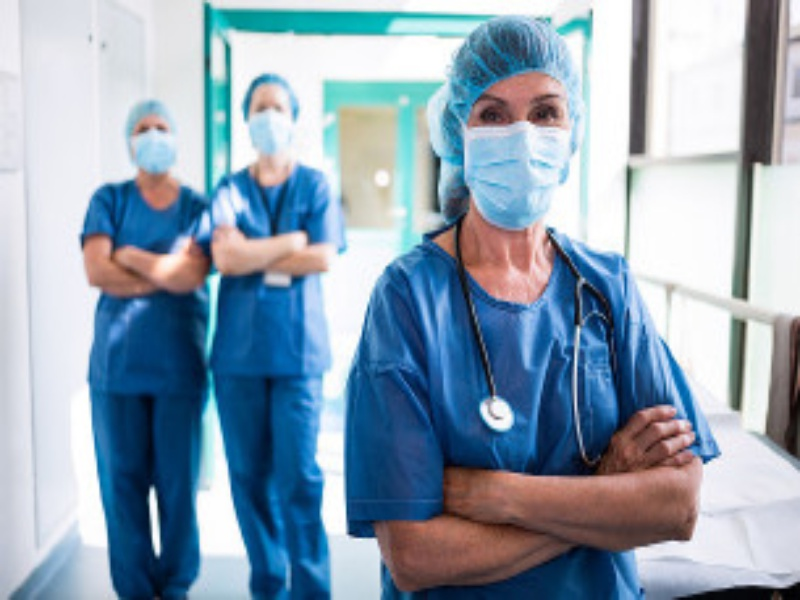mask: (448, 11, 586, 221), (246, 74, 305, 155), (122, 104, 183, 175)
